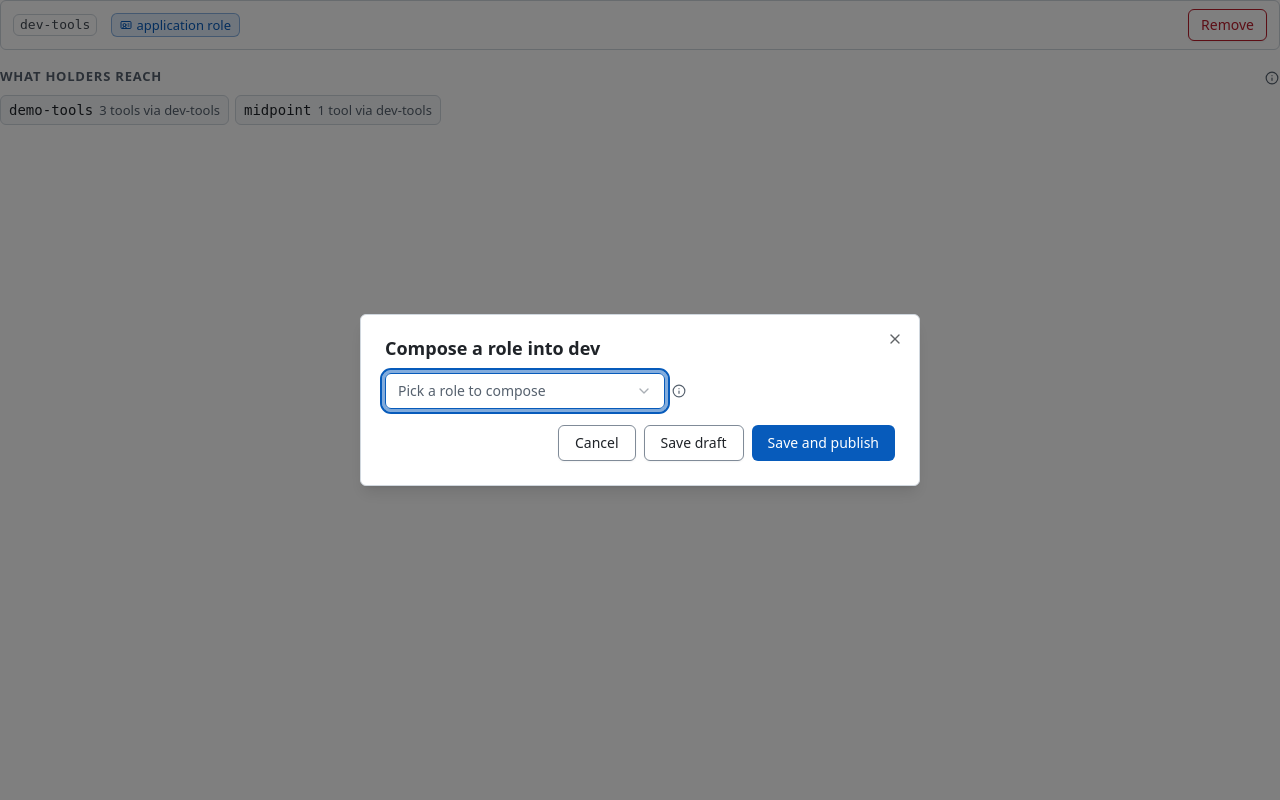
Scenario: the Composes tab › names the missing pick instead of sending
Expected: the dialog is shown, [360, 314, 920, 486]
Click the button "Save and publish": (823, 443) [752, 425, 895, 461]
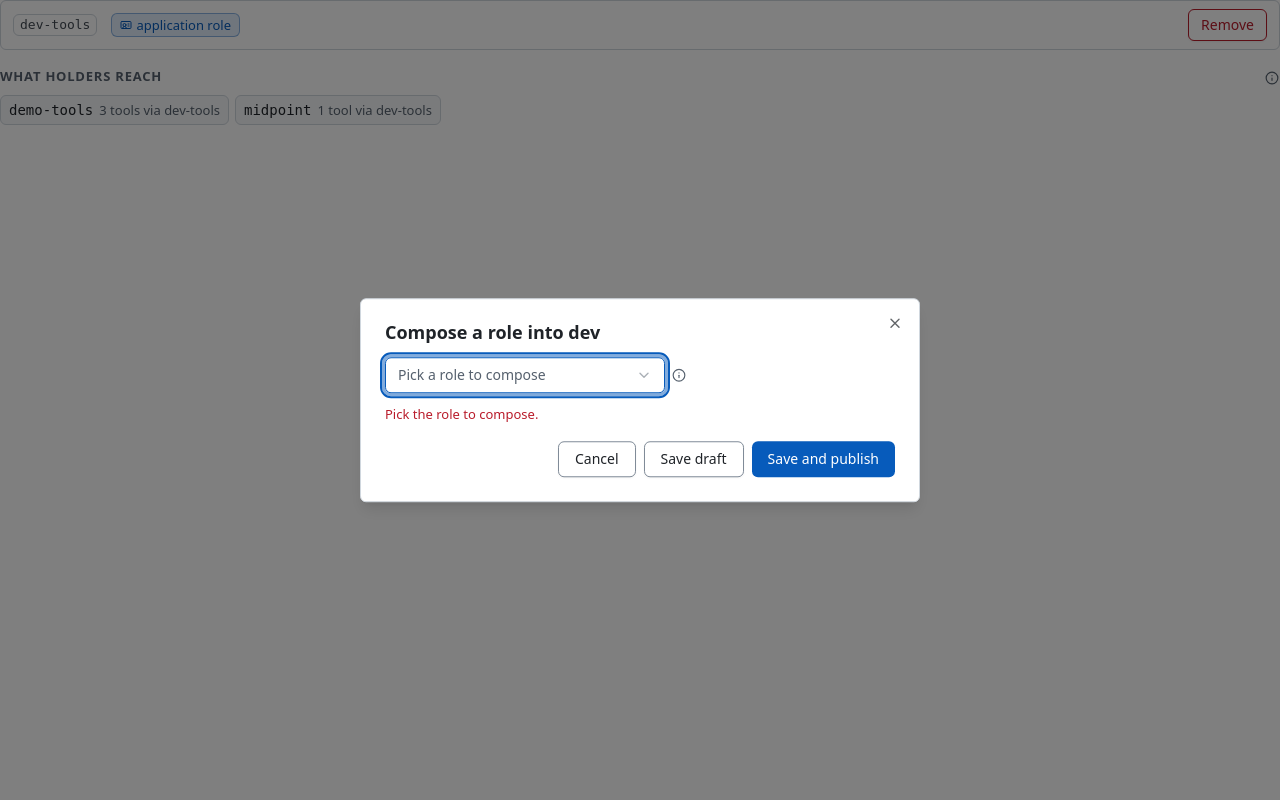
Result: the text "Pick the role to compose." is shown at [385, 405, 538, 423]
